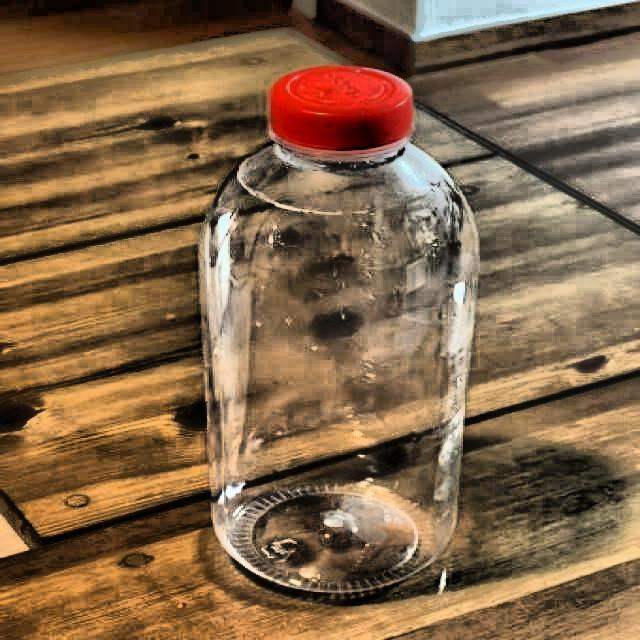plastic bottle: (200, 65, 479, 602)
